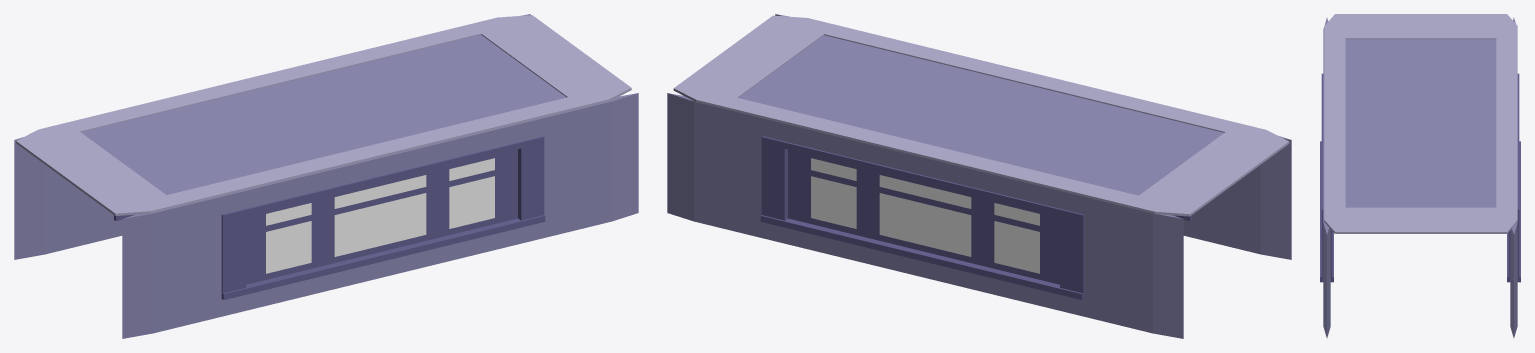
File: BackgroundWithWindow.fbx
3 views of the same model, side by side, from view 1: azimuth 30°, elevation 25°; view 2: azimuth 150°, elevation 25°; view 3: azimuth 270°, elevation 25° (orthographic). The views are drawn at different scales.
Parts seen in each view (by area): view 1: mergedBlocks; view 2: mergedBlocks; view 3: mergedBlocks.
Boxes of the visible parts, left/top/right/bottom form: mergedBlocks: left=14, top=14, right=638, bottom=338; mergedBlocks: left=667, top=14, right=1291, bottom=338; mergedBlocks: left=1320, top=14, right=1520, bottom=338.
Size of the model in its own units: 452 by 102 by 175.
